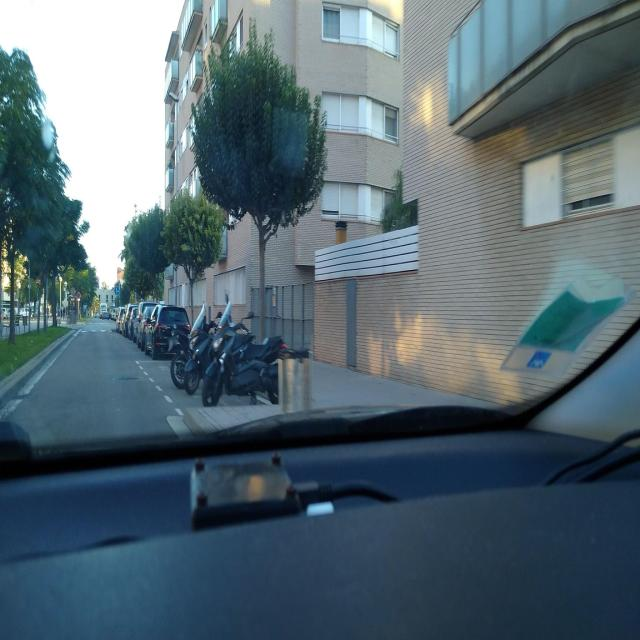forb_stopping: (77, 292, 81, 299)
